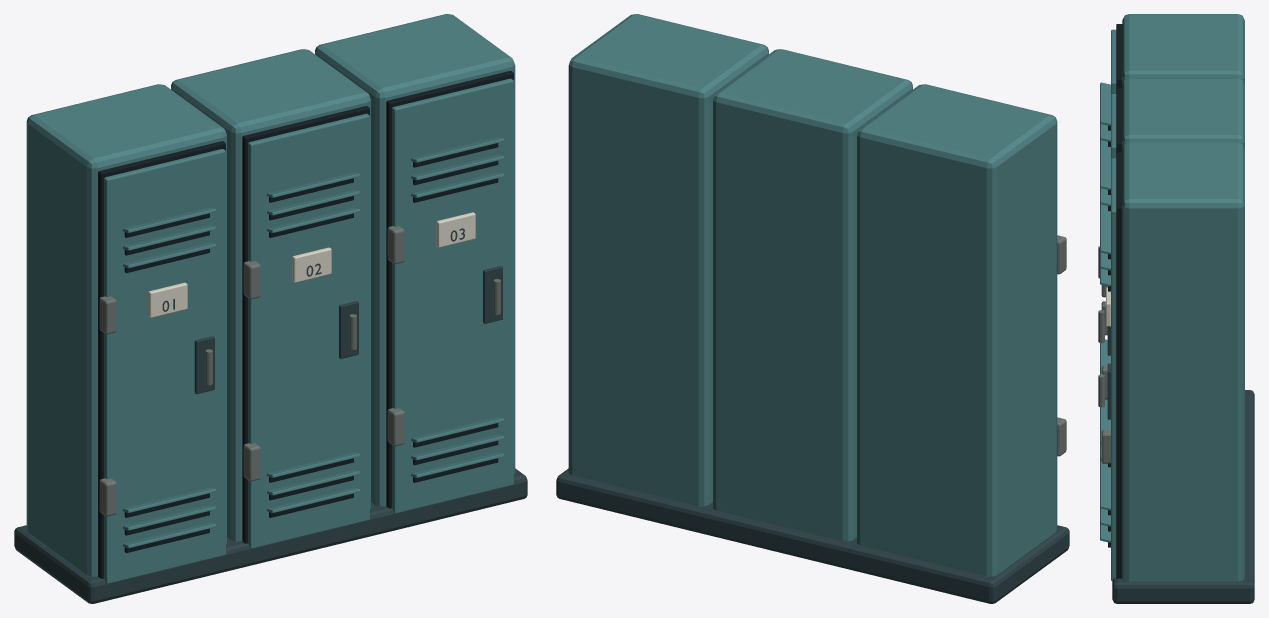
The model's file is locker-bank.glb.
3 renders of one model, left to right at view 1: azimuth 30°, elevation 25°; view 2: azimuth 150°, elevation 25°; view 3: azimuth 270°, elevation 25°, orthographic. The views are drawn at different scales.
Parts seen in each view (by area): view 1: locker-bank__locker-bank__petrol, locker-bank__locker-bank__rubber, locker-bank__locker-bank__steel, locker-bank__locker-bank__hardware, locker-bank__locker-bank__ivory; view 2: locker-bank__locker-bank__petrol, locker-bank__locker-bank__steel, locker-bank__locker-bank__hardware; view 3: locker-bank__locker-bank__petrol, locker-bank__locker-bank__steel, locker-bank__locker-bank__rubber, locker-bank__locker-bank__hardware.
Boxes of the visible parts, <box> form: locker-bank__locker-bank__petrol: <box>26,14,515,584</box>; locker-bank__locker-bank__rubber: <box>98,71,513,578</box>; locker-bank__locker-bank__steel: <box>14,228,527,603</box>; locker-bank__locker-bank__hardware: <box>99,226,500,516</box>; locker-bank__locker-bank__ivory: <box>148,212,475,317</box>; locker-bank__locker-bank__petrol: <box>568,14,1057,576</box>; locker-bank__locker-bank__steel: <box>556,468,1069,603</box>; locker-bank__locker-bank__hardware: <box>1057,235,1066,456</box>; locker-bank__locker-bank__petrol: <box>1100,14,1244,581</box>; locker-bank__locker-bank__steel: <box>1104,303,1254,603</box>; locker-bank__locker-bank__rubber: <box>1108,24,1122,578</box>; locker-bank__locker-bank__hardware: <box>1098,246,1110,463</box>.
Size of the model in its own units: 2.35 by 2.24 by 0.792.
